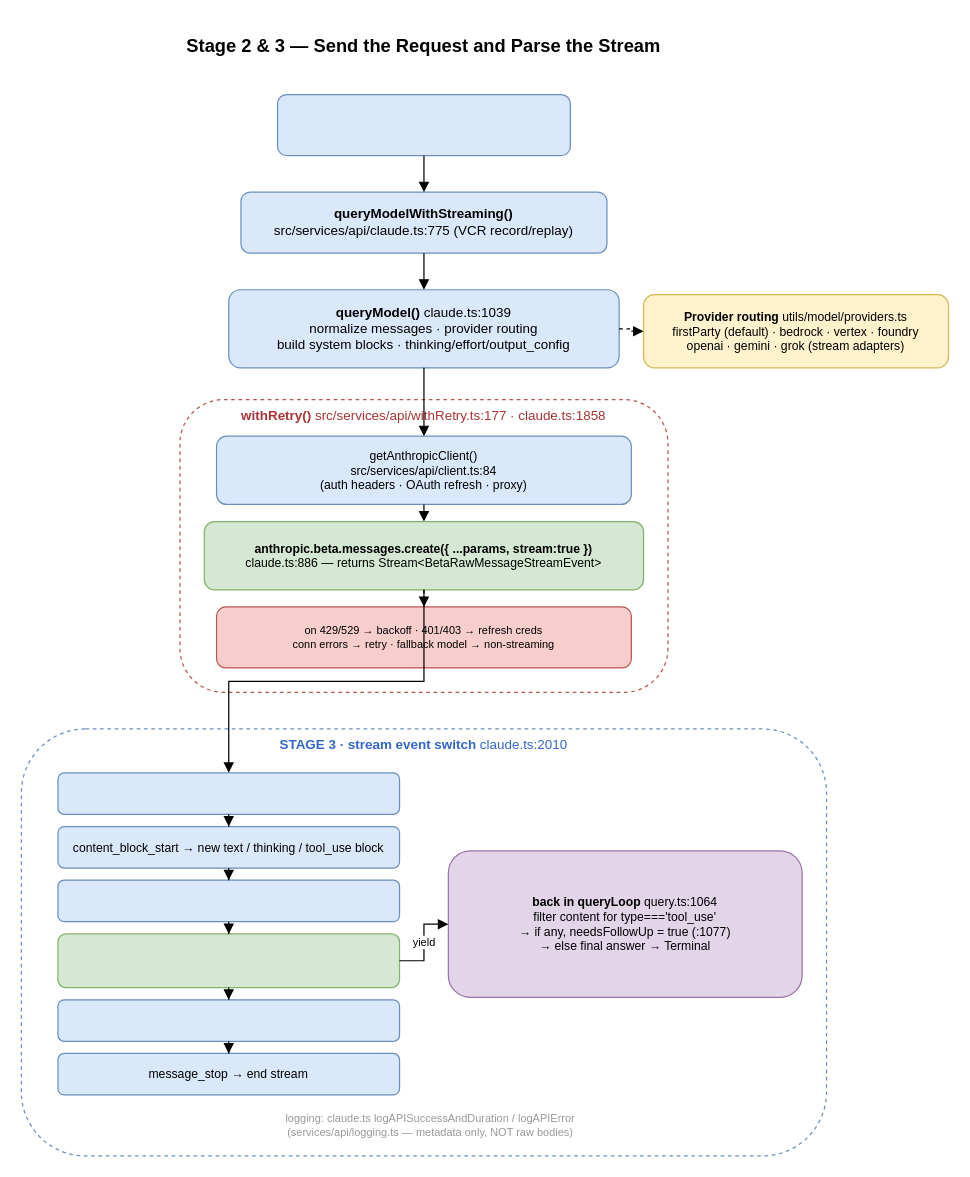
This 970x1177 diagram has some shape labels left out. Here are the shapes that lost their labels. From the top down, the centre of each, then its label:
point (423, 124): deps.callModel({...}) src/query.ts:884
point (228, 793): message_start → init usage, ttft
point (228, 900): content_block_delta → accumulate text / partial_json / thinking
point (228, 960): content_block_stop → finalize block, build & YIELD AssistantMessage
point (228, 1020): message_delta → final usage + stop_reason
